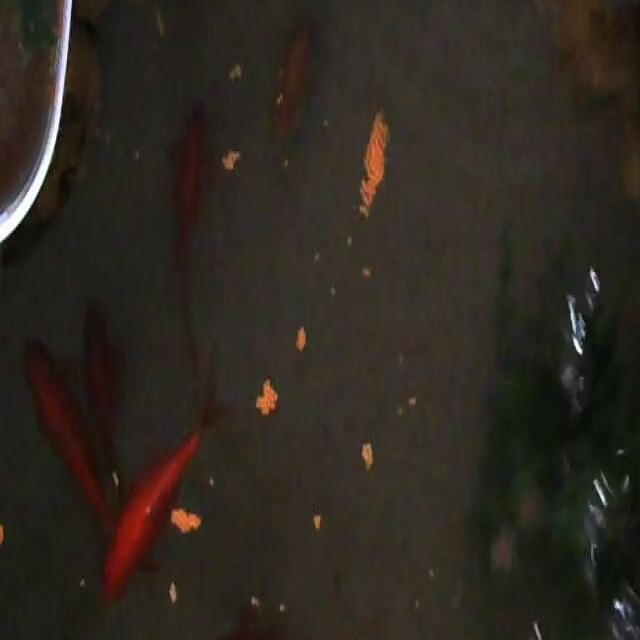fish: (94, 386, 223, 627), (15, 337, 90, 528), (168, 107, 216, 369), (83, 305, 126, 484), (272, 17, 318, 150), (206, 606, 336, 640)
